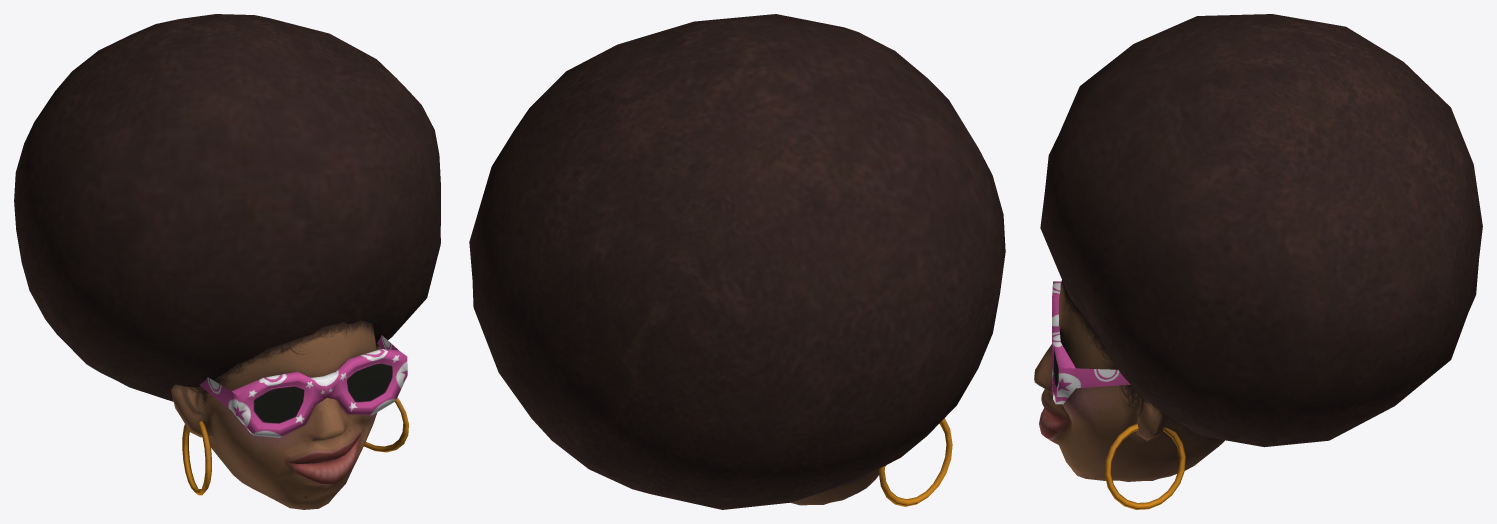
File: avatar2-head.glb
3 renders of one model, left to right at view 1: azimuth 30°, elevation 25°; view 2: azimuth 150°, elevation 25°; view 3: azimuth 270°, elevation 25°, orthographic. The views are drawn at different scales.
Parts seen in each view (by area): view 1: head; view 2: head; view 3: head.
Part boxes in pixels (x1=…): head: x1=14, y1=14, x2=440, y2=509; head: x1=469, y1=14, x2=1005, y2=509; head: x1=1034, y1=14, x2=1482, y2=509.
Size of the model in its own units: 0.5729 by 0.6066 by 0.559.
1 material, 1 textured.
